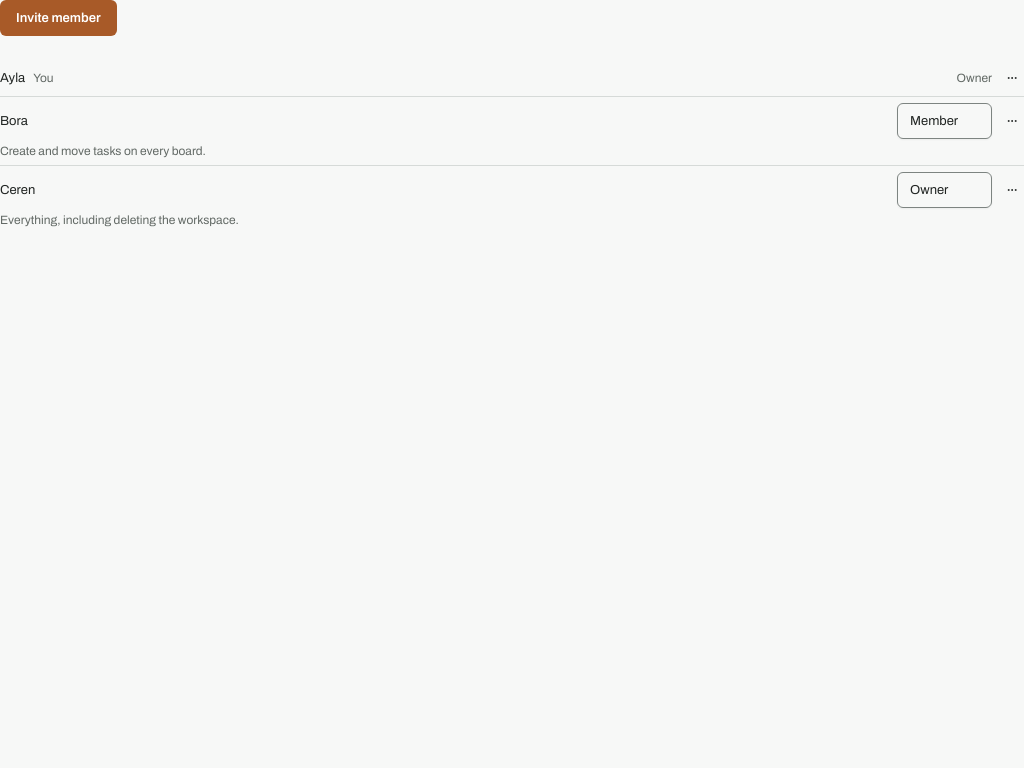
Test case: MembersSettings — inviting › sends the address and role the admin chose to the invitations endpoint
The width and height of the screenshot is (1024, 768).
Click the button "Invite member": (58, 18) [0,0,117,36]
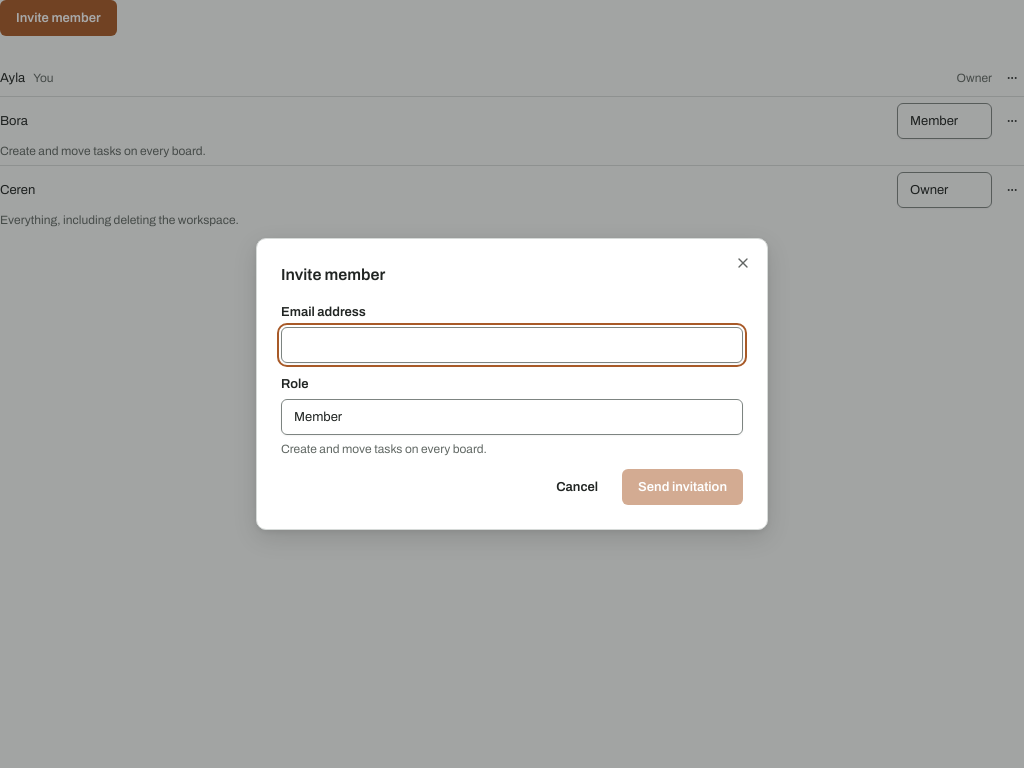
In the field labelled "Email address": (512, 345) [281,327,743,363], type "  yeni@kurul.test  "
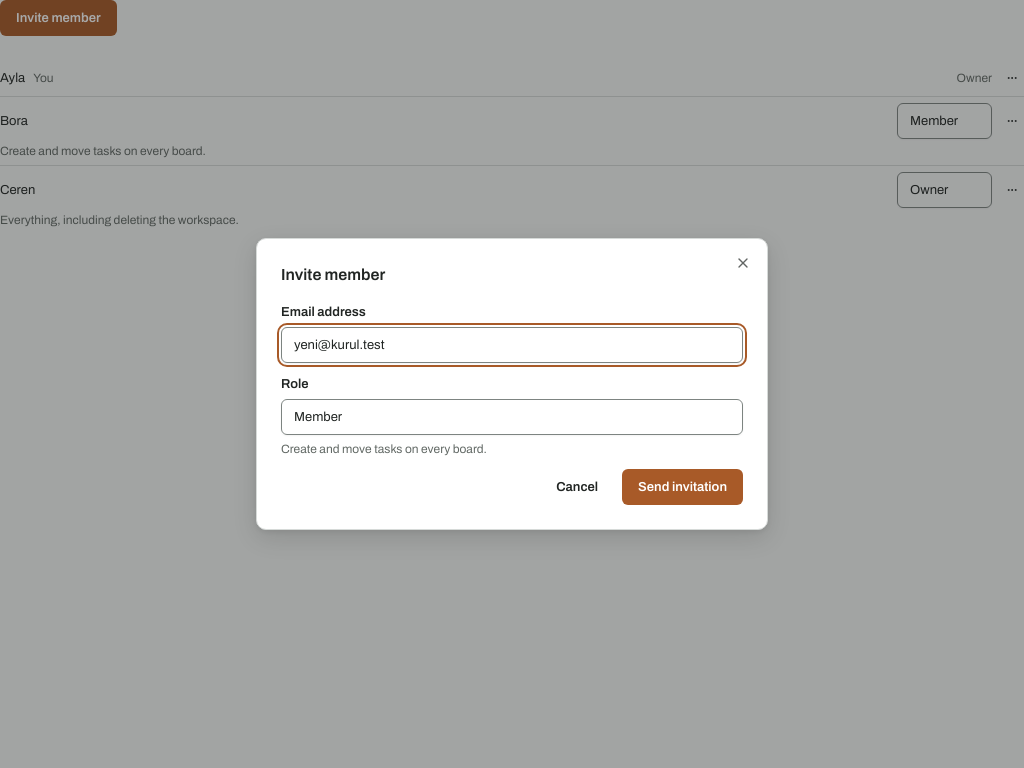
Select "Admin" in the dropdown labelled "Role": (512, 417) [281,399,743,435]
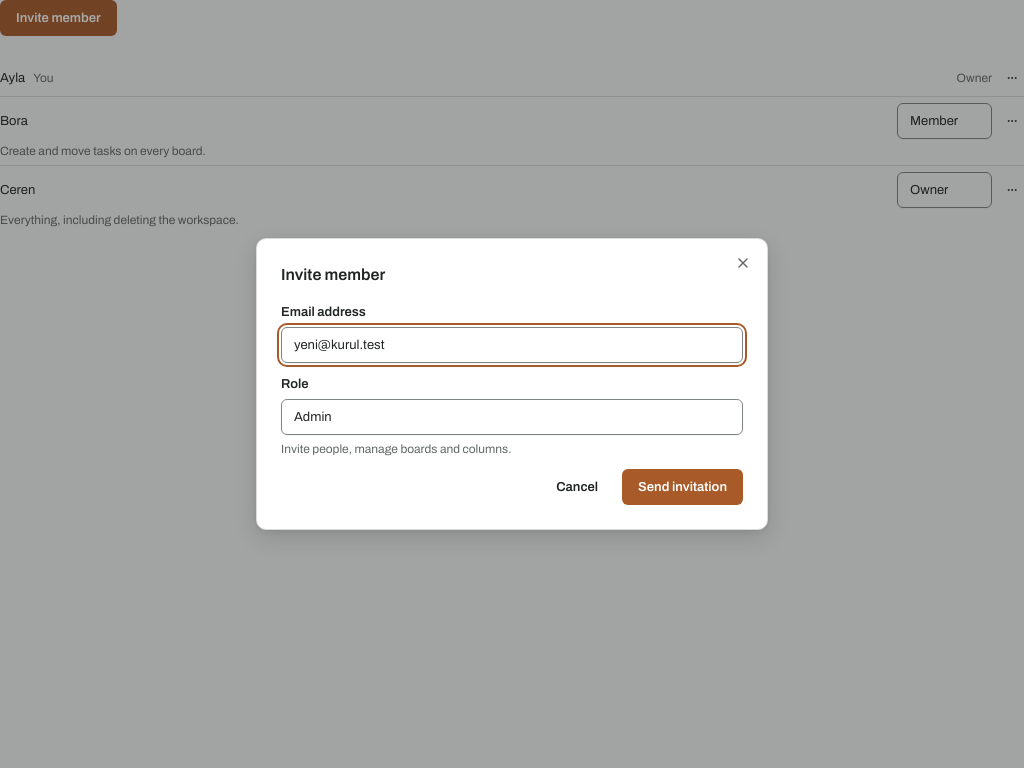
Click the button "Send invitation": (683, 487) [622,469,743,505]
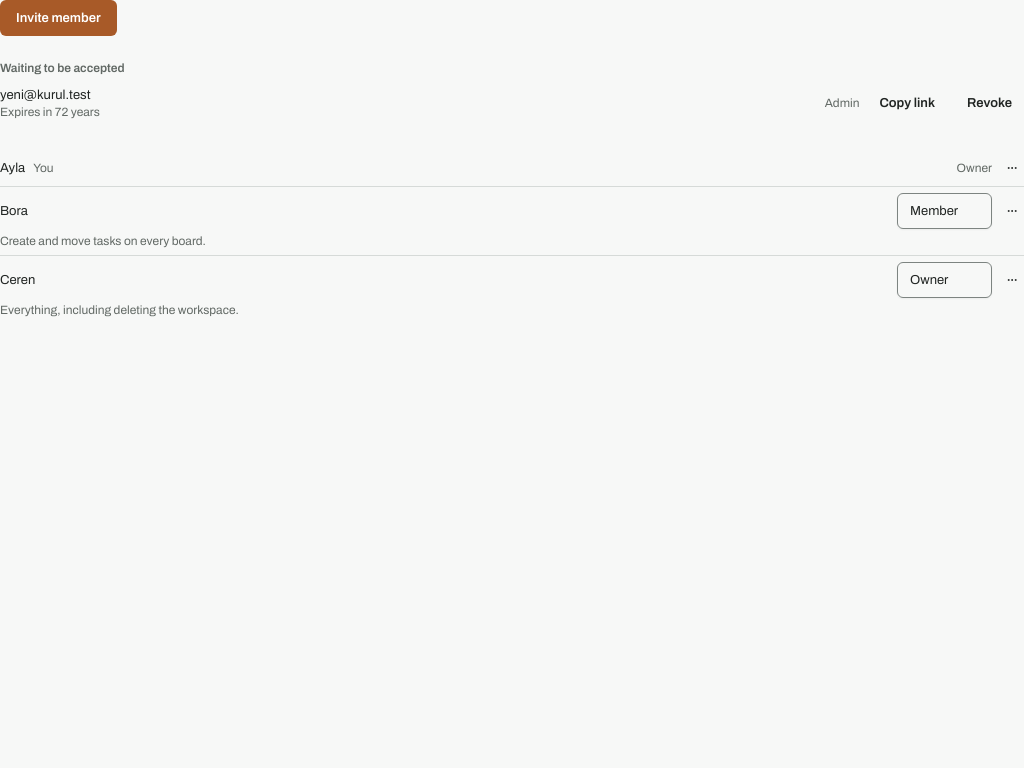
Now the text "yeni@kurul.test" is shown, box [0,86,100,104]
